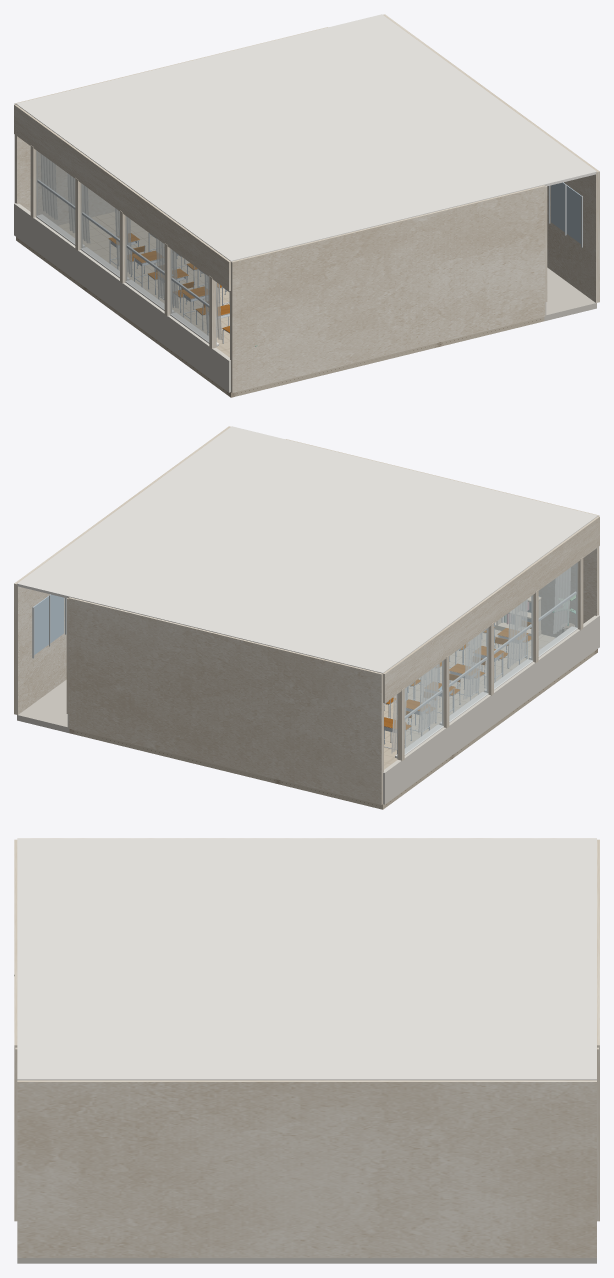
Rendered from school-classroom-3d.glb.
The picture shows the model from 3 angles, top to bottom: view 1: azimuth 30°, elevation 25°; view 2: azimuth 150°, elevation 25°; view 3: azimuth 270°, elevation 25°; orthographic projection. The views are drawn at different scales.
Visible parts, largest first — view 1: Classroom | MToon | matte ceiling, Classroom | MToon | warm cream plaster, Classroom | MToon | daylight glass, Classroom | MToon | porcelain wainscot, Continuous ceramic classroom floor, Classroom | MToon | sheer linen curtain, Hallway blue stone floor, Classroom | MToon | neighboring school windows, Classroom | MToon | silver window trim, Classroom | MToon | unwritten paper, Classroom | MToon | silver painted steel; view 2: Classroom | MToon | matte ceiling, Classroom | MToon | warm cream plaster, Classroom | MToon | daylight glass, Classroom | MToon | porcelain wainscot, Continuous ceramic classroom floor, Classroom | MToon | sheer linen curtain, Hallway blue stone floor, Classroom | MToon | neighboring school windows, Classroom | MToon | silver window trim, Classroom | MToon | silver painted steel, Classroom | MToon | unwritten paper; view 3: Classroom | MToon | matte ceiling, Classroom | MToon | warm cream plaster, Hallway blue stone floor.
Part boxes in pixels (x1,y1,x2,y2): Classroom | MToon | matte ceiling: (16, 14, 596, 261); Classroom | MToon | warm cream plaster: (14, 14, 599, 392); Classroom | MToon | daylight glass: (36, 150, 209, 341); Classroom | MToon | porcelain wainscot: (14, 203, 546, 392); Continuous ceramic classroom floor: (16, 212, 544, 397); Classroom | MToon | sheer linen curtain: (40, 154, 222, 340); Hallway blue stone floor: (544, 267, 596, 321); Classroom | MToon | neighboring school windows: (551, 182, 581, 243); Classroom | MToon | silver window trim: (37, 152, 582, 346); Classroom | MToon | unwritten paper: (36, 214, 218, 346); Classroom | MToon | silver painted steel: (109, 233, 229, 342); Classroom | MToon | matte ceiling: (17, 426, 597, 673); Classroom | MToon | warm cream plaster: (14, 426, 599, 804); Classroom | MToon | daylight glass: (404, 562, 577, 753); Classroom | MToon | porcelain wainscot: (67, 615, 599, 804); Continuous ceramic classroom floor: (69, 629, 597, 809); Classroom | MToon | sheer linen curtain: (391, 567, 570, 753); Hallway blue stone floor: (17, 679, 69, 733); Classroom | MToon | neighboring school windows: (34, 594, 64, 654); Classroom | MToon | silver window trim: (32, 564, 576, 758); Classroom | MToon | silver painted steel: (384, 623, 530, 753); Classroom | MToon | unwritten paper: (395, 616, 577, 758); Classroom | MToon | matte ceiling: (17, 838, 596, 1080); Classroom | MToon | warm cream plaster: (14, 838, 599, 1257); Hallway blue stone floor: (17, 1258, 596, 1263).
Size of the model in its own units: 10.62 by 3.74 by 10.78.
33 materials, 9 textured.
